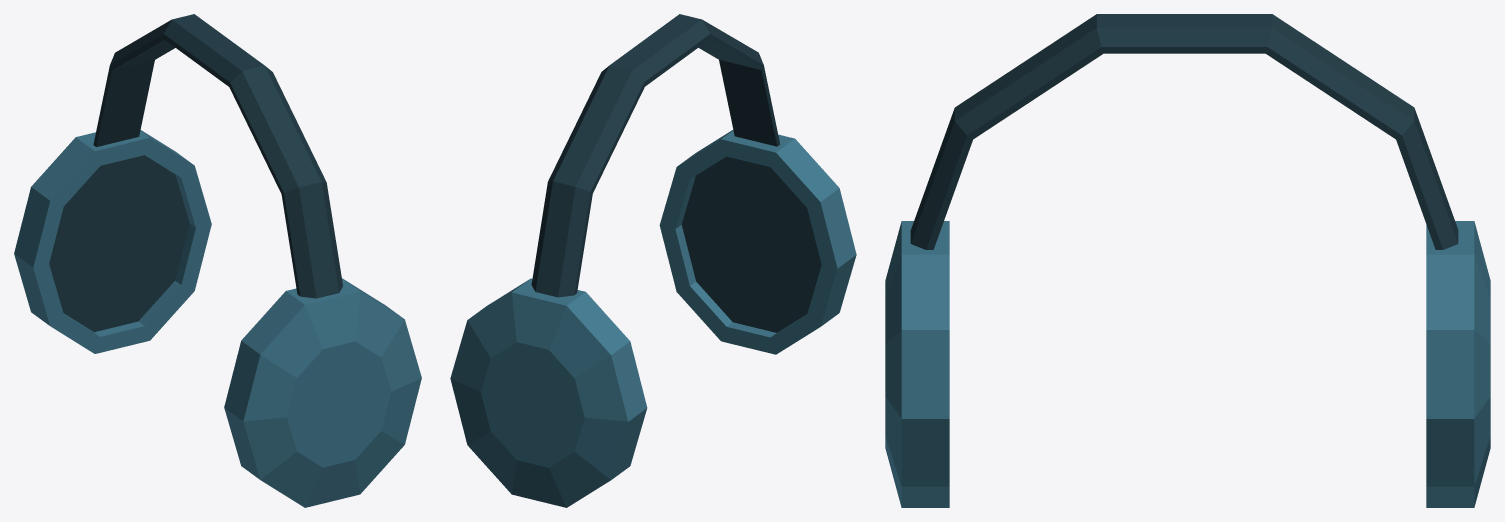
The model's file is cascos.fbx.
3 views of the same model, side by side, from view 1: azimuth 30°, elevation 25°; view 2: azimuth 150°, elevation 25°; view 3: azimuth 270°, elevation 25° (orthographic). The views are drawn at different scales.
Parts seen in each view (by area): view 1: Cascos; view 2: Cascos; view 3: Cascos.
Boxes of the visible parts, x1,y1,x2,y2 form: Cascos: (14,14,421,507); Cascos: (450,14,856,507); Cascos: (885,14,1490,507).
Size of the model in its own units: 19.81 by 39.86 by 46.55.
